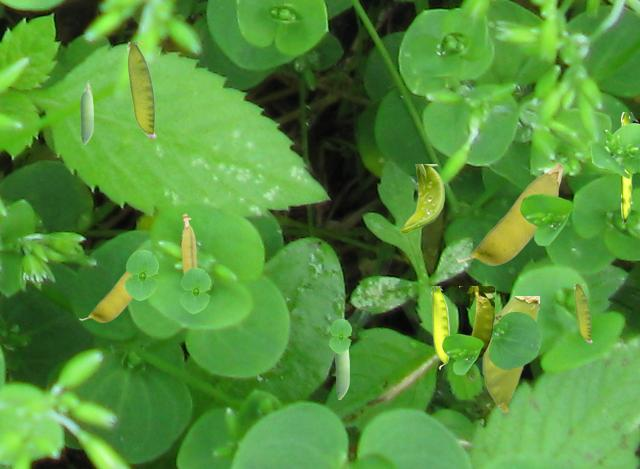pea: (456, 163, 562, 264), (482, 296, 538, 411), (399, 164, 443, 232), (127, 42, 155, 138), (459, 286, 493, 364), (79, 271, 132, 321), (621, 112, 637, 222), (431, 286, 448, 368), (574, 284, 591, 342), (181, 213, 197, 273), (80, 80, 92, 143), (335, 350, 348, 398)
